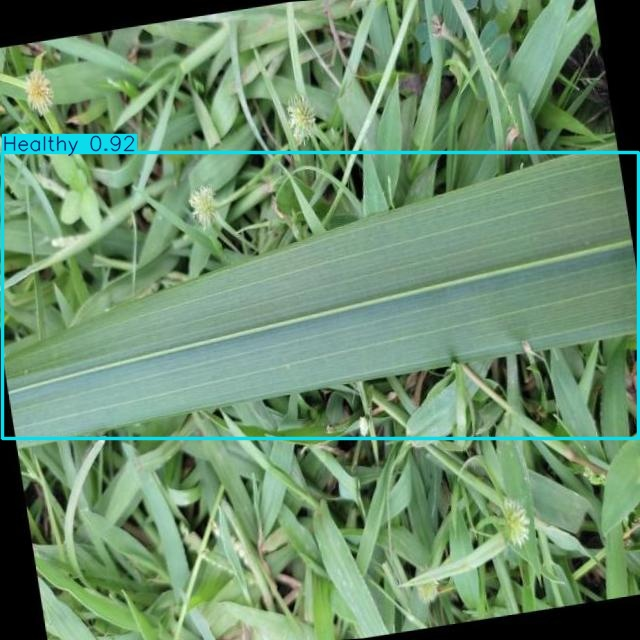Healthy: (2, 153, 638, 438)
